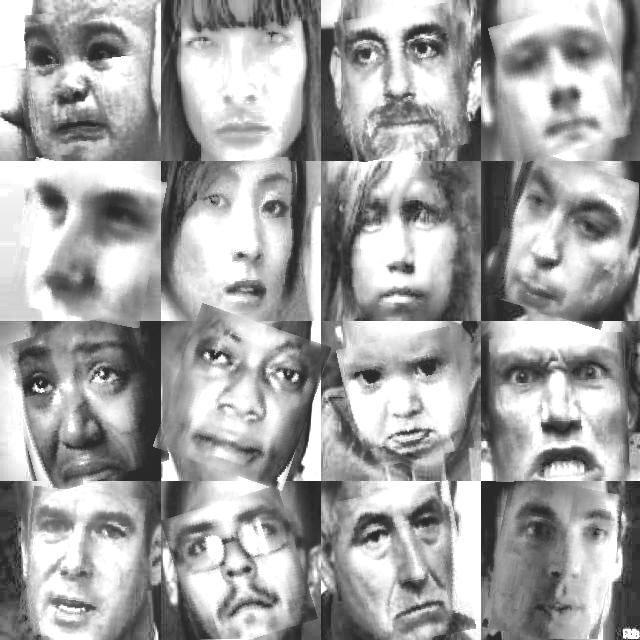angry: (170, 492, 309, 640), (491, 333, 629, 481), (342, 484, 469, 640)
fear: (20, 489, 143, 640)
neutral: (162, 312, 320, 482), (15, 162, 161, 322), (489, 479, 618, 640), (496, 5, 624, 157), (340, 7, 468, 158), (177, 0, 297, 157)
sad: (8, 318, 160, 488), (492, 157, 636, 323), (16, 7, 142, 156), (184, 159, 304, 315), (340, 176, 464, 318), (342, 332, 470, 466)
